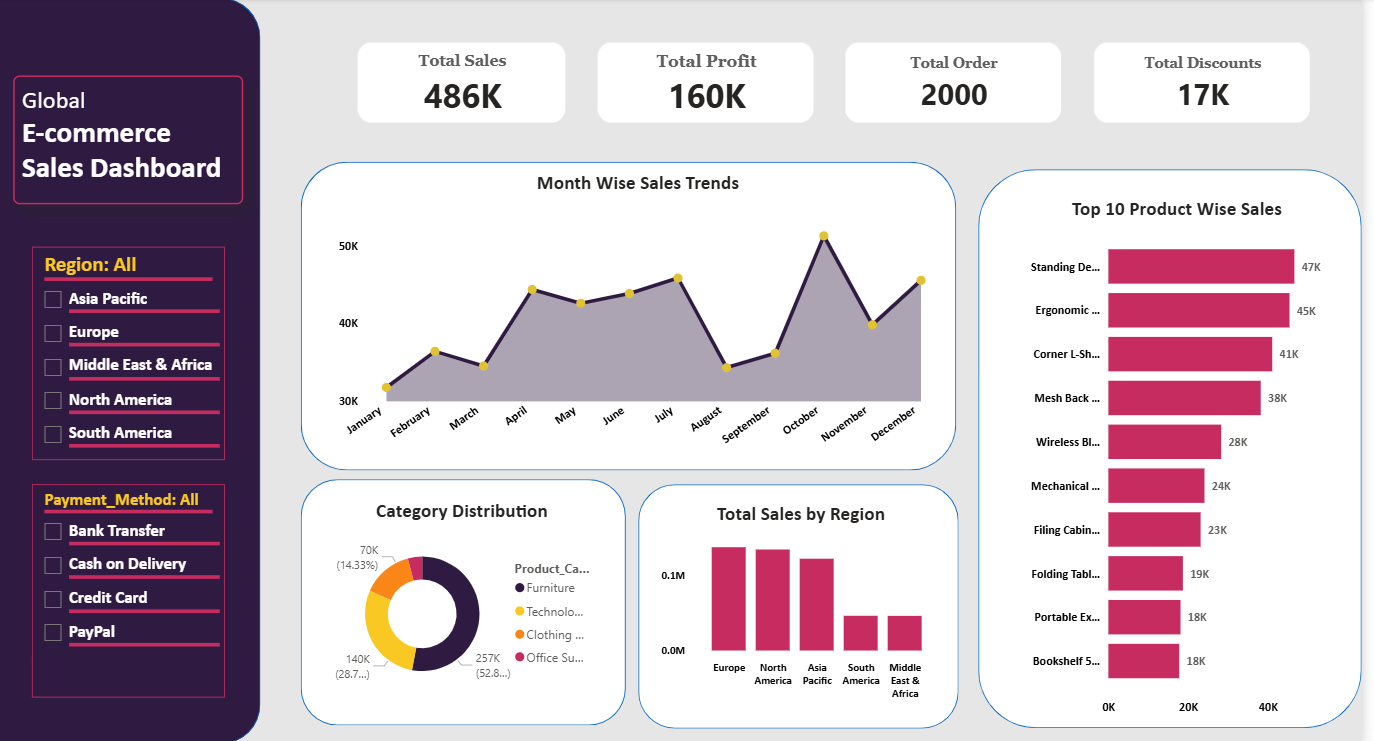

Layout of this report page (visuals, bound fields, positions):
{"tool":"powerbi","page":{"name":"Page 1","canvas":[1500,820],"ordinal":0},"visuals":[{"type":"shape","box":[0,0,289.5,820.1],"z":0},{"type":"cardVisual","fields":{"Data":["Global E-commerce Sales.Total Sales"]},"box":[379.5,32.2,263.7,123.7],"z":1000,"group":"g1"},{"type":"shape","box":[334.5,180.1,720.4,339.3],"z":1000},{"type":"cardVisual","fields":{"Data":["Global E-commerce Sales.Total Profit"]},"box":[643.2,32.2,272.5,123.7],"z":2000,"group":"g1"},{"type":"lineChart","title":"Month Wise Sales Trends ","fields":{"Y":["Global E-commerce Sales.Total Sales"],"Category":["Global E-commerce Sales.Order_Date.Variation.Date Hierarchy.Year","Global E-commerce Sales.Order_Date.Variation.Date Hierarchy.Quarter","Global E-commerce Sales.Order_Date.Variation.Date Hierarchy.Month","Global E-commerce Sales.Order_Date.Variation.Date Hierarchy.Day"]},"box":[366.6,189.8,675.4,320],"z":2000},{"type":"cardVisual","fields":{"Data":["Global E-commerce Sales.Total Order"]},"box":[915.8,32.2,272.5,123.7],"z":3000,"group":"g1"},{"type":"shape","box":[1079,188.1,421.3,614.3],"z":3000},{"type":"cardVisual","fields":{"Data":["Global E-commerce Sales.Total Discounts"]},"box":[1188.3,32.2,272.5,123.7],"z":4000,"group":"g1"},{"type":"clusteredBarChart","title":"Top 10 Product Wise Sales","fields":{"Category":["Global E-commerce Sales.Product_Name"],"Y":["Sum(Global E-commerce Sales.Total_Sales)"]},"box":[1120.4,219.1,354.5,578.5],"z":4000},{"type":"shape","box":[333.7,529.3,357.2,270.7],"z":5000},{"type":"donutChart","title":"Category Distribution ","fields":{"Category":["Global E-commerce Sales.Product_Category"],"Y":["Global E-commerce Sales.Total Sales"]},"box":[361.2,551.3,299.5,226.7],"z":6000},{"type":"shape","box":[704.3,533.9,352.2,268.5],"z":7000},{"type":"columnChart","fields":{"Category":["Global E-commerce Sales.Region"],"Y":["Global E-commerce Sales.Total Sales"]},"box":[725.2,553.2,316.8,226.7],"z":8000},{"type":"group","id":"g1","title":"Group 1","box":[379.5,32.2,1080.6,123.8],"z":9000},{"type":"textbox","box":[17.7,85.2,252.5,141.5],"z":10000},{"type":"slicer","fields":{"Values":["Global E-commerce Sales.Region"]},"box":[38.6,273.4,212.3,234.8],"z":11000},{"type":"slicer","fields":{"Values":["Global E-commerce Sales.Payment_Method"]},"box":[38.6,533.9,212.3,234.8],"z":12000}]}

Visuals, with their boxes in screenshot pixels (x1, y1, x2, y2), scaled from the page's 1500x820 canvas onto the 1374x741 screenshot:
shape: bbox=(0, 0, 265, 740)
cardVisual - Global E-commerce Sales.Total Sales: bbox=(348, 29, 589, 141)
shape: bbox=(306, 163, 966, 469)
cardVisual - Global E-commerce Sales.Total Profit: bbox=(589, 29, 839, 141)
"Month Wise Sales Trends " lineChart: bbox=(336, 172, 954, 461)
cardVisual - Global E-commerce Sales.Total Order: bbox=(839, 29, 1088, 141)
shape: bbox=(988, 170, 1373, 725)
cardVisual - Global E-commerce Sales.Total Discounts: bbox=(1088, 29, 1338, 141)
"Top 10 Product Wise Sales" clusteredBarChart: bbox=(1026, 198, 1351, 721)
shape: bbox=(306, 478, 633, 723)
"Category Distribution " donutChart: bbox=(331, 498, 605, 703)
shape: bbox=(645, 482, 968, 725)
columnChart - Global E-commerce Sales.Region x Global E-commerce Sales.Total Sales: bbox=(664, 500, 954, 705)
"Group 1" group: bbox=(348, 29, 1337, 141)
textbox: bbox=(16, 77, 248, 205)
slicer - Global E-commerce Sales.Region: bbox=(35, 247, 230, 459)
slicer - Global E-commerce Sales.Payment_Method: bbox=(35, 482, 230, 695)
